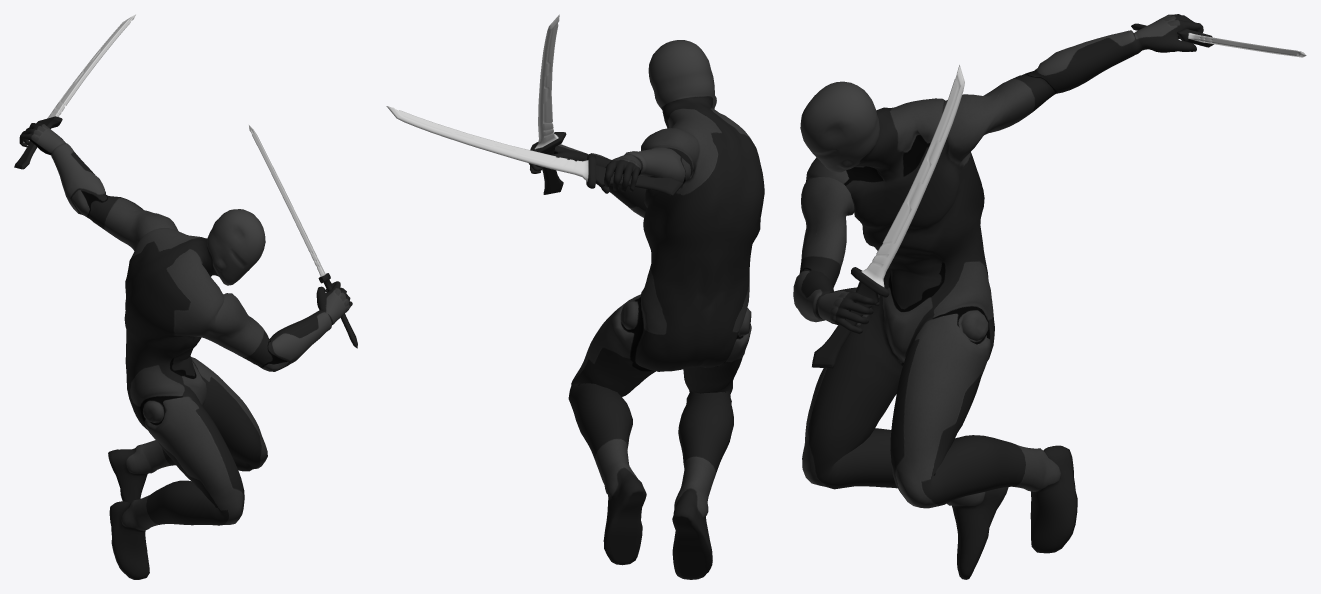
3 renders of one model, left to right at view 1: azimuth 30°, elevation 25°; view 2: azimuth 150°, elevation 25°; view 3: azimuth 270°, elevation 25°, orthographic. The views are drawn at different scales.
Parts seen in each view (by area): view 1: Cyborg_Ninja_Killer, Sword_l, Sword_l001; view 2: Cyborg_Ninja_Killer, Sword_l, Sword_l001; view 3: Cyborg_Ninja_Killer, Sword_l001, Sword_l.
Boxes of the visible parts, left/top/right/bottom form: Cyborg_Ninja_Killer: left=19, top=123, right=352, bottom=579; Sword_l: left=14, top=14, right=135, bottom=169; Sword_l001: left=249, top=125, right=357, bottom=348; Cyborg_Ninja_Killer: left=528, top=40, right=764, bottom=579; Sword_l: left=386, top=106, right=682, bottom=195; Sword_l001: left=530, top=14, right=566, bottom=194; Cyborg_Ninja_Killer: left=793, top=14, right=1203, bottom=579; Sword_l001: left=812, top=65, right=964, bottom=368; Sword_l: left=1131, top=23, right=1306, bottom=57.
Size of the model in its own units: 93.02 by 174 by 135.
Materials: 2 (2 with a texture image).
